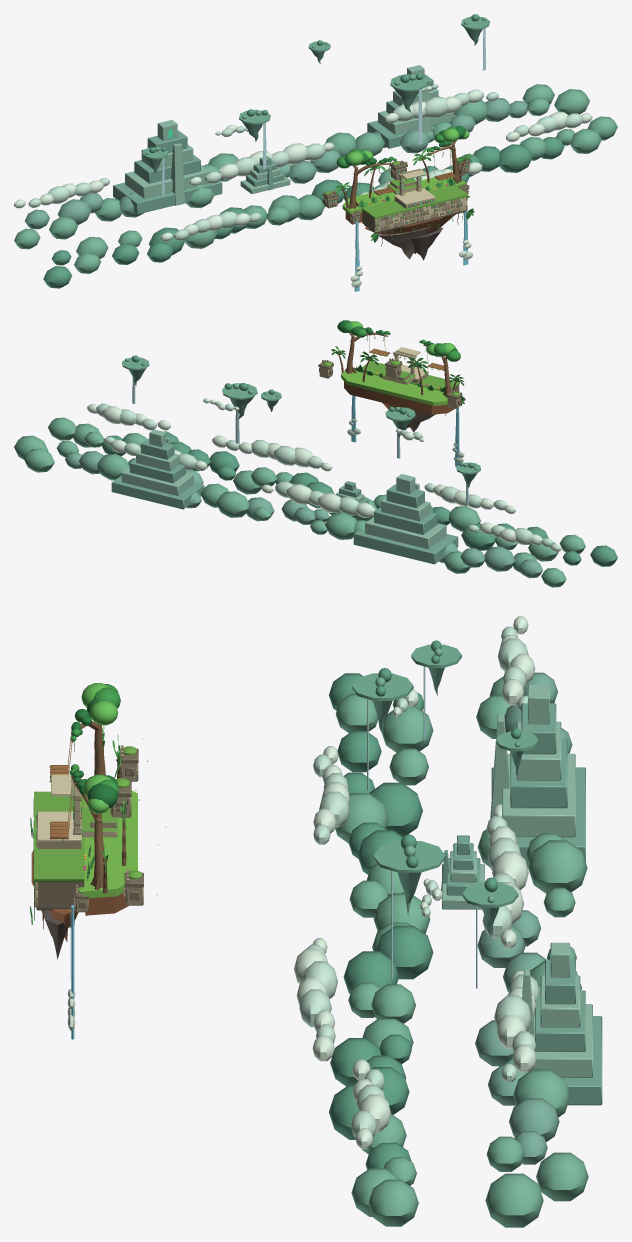
File: JungleTemple.fbx
3 renders of one model, top to bottom at view 1: azimuth 30°, elevation 25°; view 2: azimuth 150°, elevation 25°; view 3: azimuth 270°, elevation 25°, orthographic. The views are drawn at different scales.
Visible parts, largest first — view 1: SceneryHaze, SceneryFar, Stage, Trees, Water, Foliage, SceneryNear, Platforms; view 2: SceneryHaze, SceneryFar, Stage, Trees, Water, Foliage, SceneryNear; view 3: SceneryHaze, SceneryFar, Stage, Trees, SceneryNear, Water, Platforms, Foliage.
Boxes of the visible parts, x1,y1,x2,y2 form: SceneryHaze: [14, 84, 617, 288]; SceneryFar: [113, 14, 489, 214]; Stage: [342, 168, 469, 260]; Trees: [336, 126, 469, 209]; Water: [162, 28, 486, 291]; Foliage: [334, 148, 474, 242]; SceneryNear: [322, 157, 470, 223]; Platforms: [373, 150, 456, 195]; SceneryHaze: [14, 398, 617, 587]; SceneryFar: [111, 355, 480, 564]; Stage: [341, 351, 459, 432]; Trees: [337, 320, 460, 397]; Water: [132, 377, 468, 504]; Foliage: [331, 346, 465, 405]; SceneryNear: [318, 358, 462, 408]; SceneryHaze: [294, 616, 588, 1227]; SceneryFar: [352, 640, 602, 1105]; Stage: [31, 778, 137, 959]; Trees: [69, 683, 120, 889]; SceneryNear: [74, 745, 143, 912]; Water: [67, 666, 477, 1039]; Platforms: [49, 724, 72, 839]; Foliage: [29, 725, 128, 924].
Size of the model in its own units: 480 by 115 by 212.
Materials: 1 (1 with a texture image).
